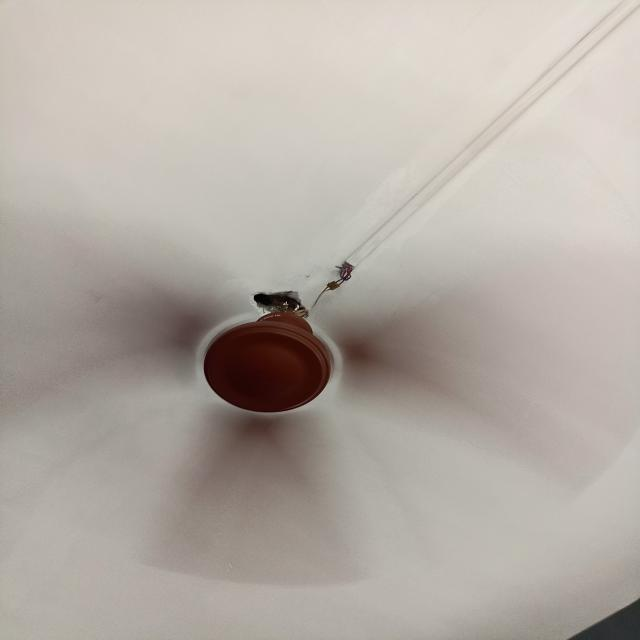fan: (0, 164, 623, 592)
